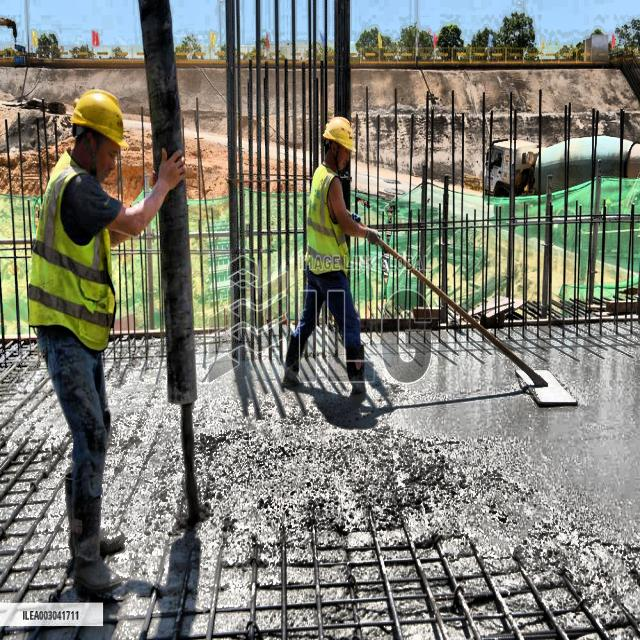safety_helmet: (68, 69, 126, 149), (309, 109, 361, 149)
safety_jacket: (32, 140, 118, 370), (302, 164, 362, 279)
